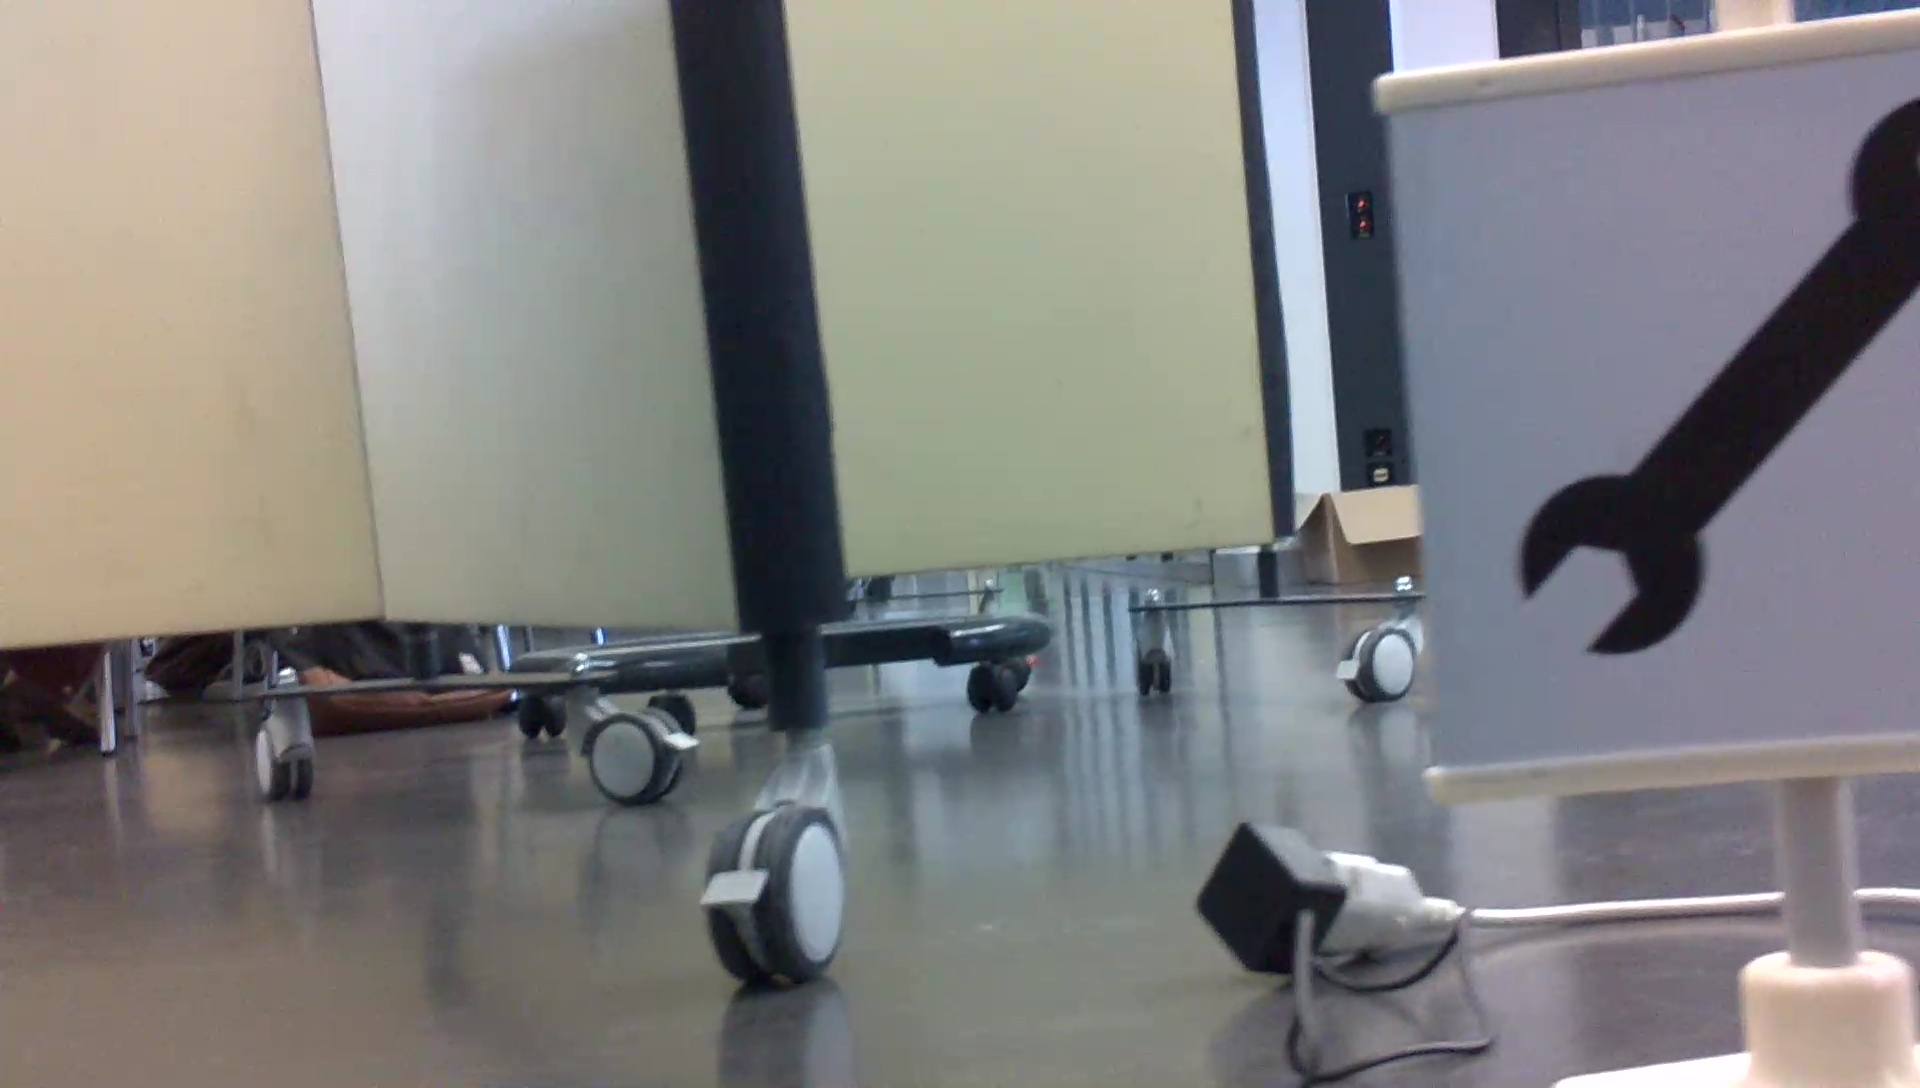wrench: (1510, 90, 1920, 663)
